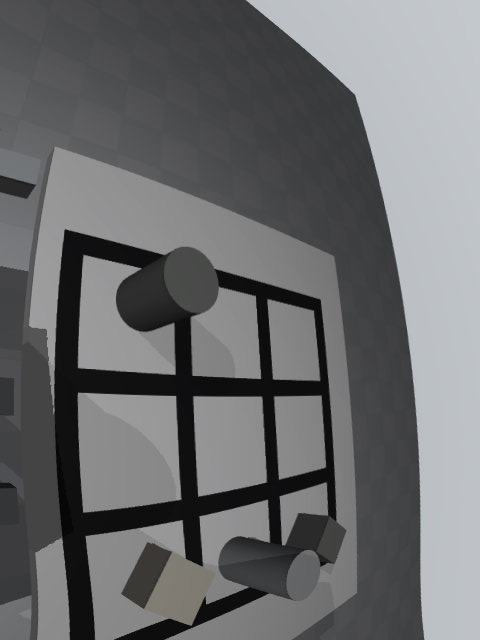can: (218, 536, 321, 601)
cube: (285, 513, 347, 564)
cylinder: (116, 247, 219, 332)
foam: (121, 543, 216, 626)
